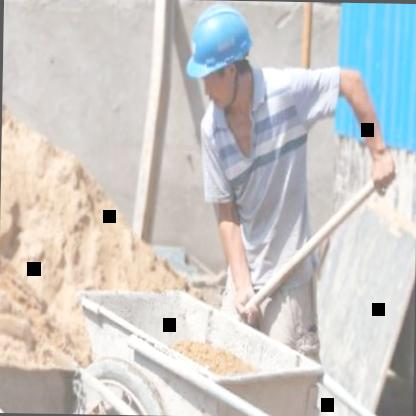helmet: (182, 0, 258, 113)
